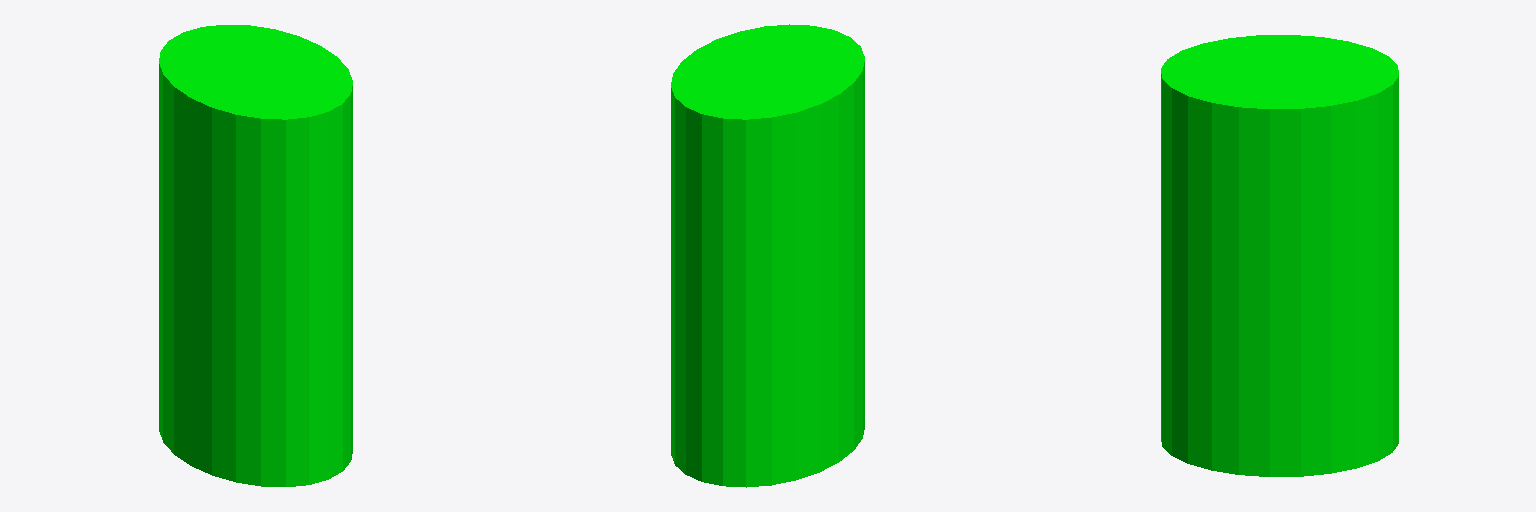
Rendered from koura_s.obj.
3 renders of one model, left to right at view 1: azimuth 30°, elevation 25°; view 2: azimuth 150°, elevation 25°; view 3: azimuth 270°, elevation 25°, orthographic.
Parts seen in each view (by area): view 1: koura_s-SKP--Default_Material; view 2: koura_s-SKP--Default_Material; view 3: koura_s-SKP--Default_Material.
Part boxes in pixels (x1,y1,x2,y2): koura_s-SKP--Default_Material: (159, 25, 352, 486); koura_s-SKP--Default_Material: (671, 24, 864, 487); koura_s-SKP--Default_Material: (1161, 35, 1398, 476).
Bounding box in the file's own units: 78.3 × 180 × 106.